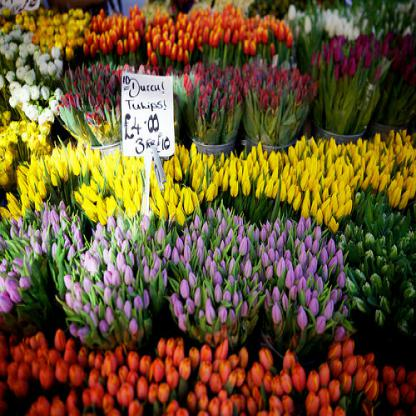TULIP: (8, 95, 407, 396)
